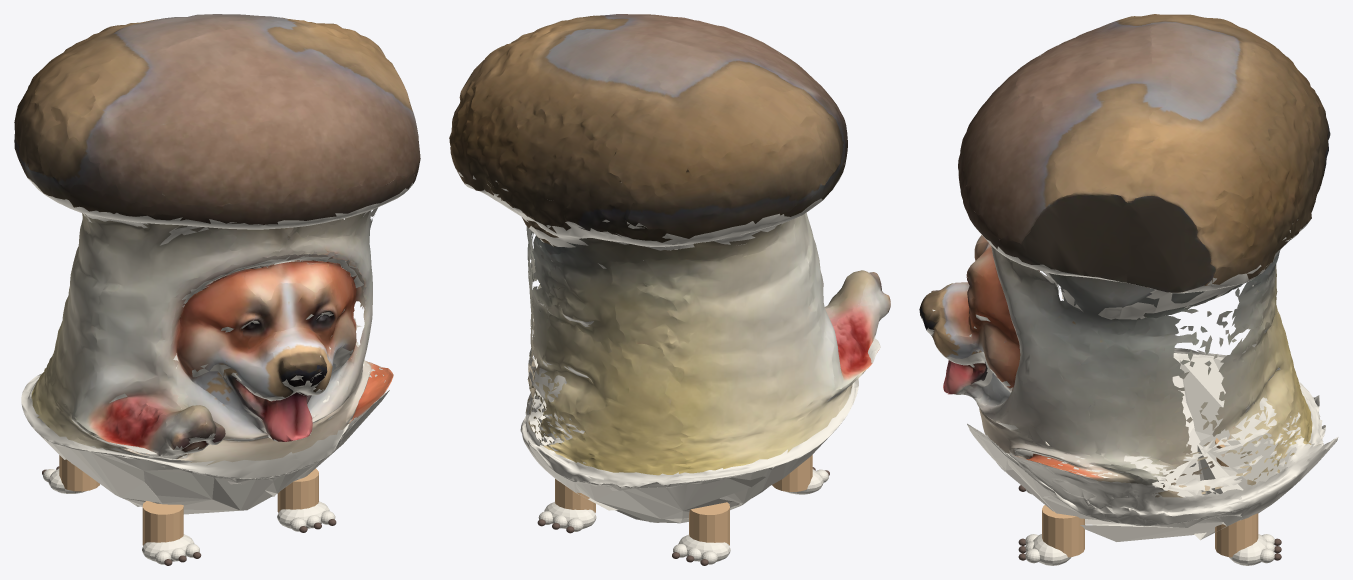
File: mascot-3d-chat.glb
3 renders of one model, left to right at view 1: azimuth 30°, elevation 25°; view 2: azimuth 150°, elevation 25°; view 3: azimuth 270°, elevation 25°, orthographic. The views are drawn at different scales.
Visible parts, largest first — view 1: world, Paws_PawTan, Paws_BottomCream; view 2: world, Paws_PawTan, Paws_BottomCream; view 3: world, Paws_PawTan, Paws_BottomCream.
Part boxes in pixels (x1=…): world: x1=14, y1=14, x2=420, y2=514; Paws_PawTan: x1=59, y1=455, x2=318, y2=545; Paws_BottomCream: x1=43, y1=468, x2=335, y2=564; world: x1=449, y1=14, x2=890, y2=523; Paws_PawTan: x1=555, y1=455, x2=812, y2=545; Paws_BottomCream: x1=538, y1=469, x2=828, y2=564; world: x1=919, y1=14, x2=1338, y2=541; Paws_PawTan: x1=1042, y1=438, x2=1258, y2=557; Paws_BottomCream: x1=1025, y1=489, x2=1274, y2=565.
Size of the model in its own units: 0.7882 by 0.9999 by 0.774.
Materials: 4 (1 with a texture image).
